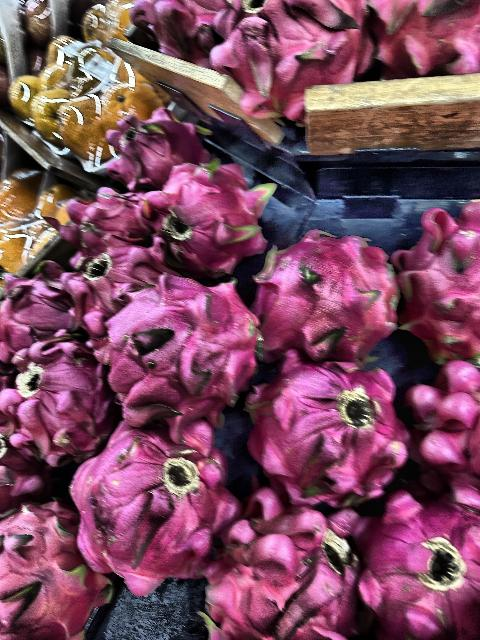buah-naga-matang: (51, 406, 240, 582), (237, 349, 405, 496), (91, 276, 267, 416), (192, 498, 356, 634), (354, 474, 480, 640), (252, 224, 392, 358), (208, 0, 368, 110), (0, 500, 118, 640), (142, 161, 272, 273), (0, 336, 114, 448), (98, 100, 210, 184), (0, 264, 82, 360), (56, 181, 134, 251)
